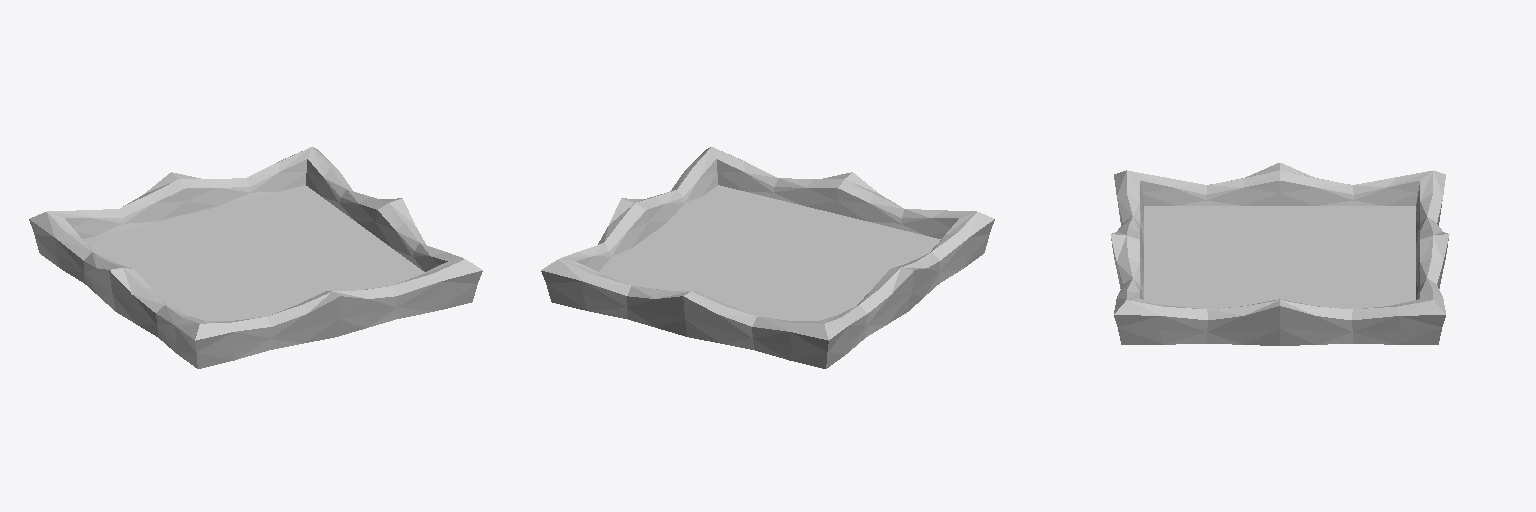
Rendered from frameNew02.obj.
3 renders of one model, left to right at view 1: azimuth 30°, elevation 25°; view 2: azimuth 150°, elevation 25°; view 3: azimuth 270°, elevation 25°, orthographic.
Visible parts, largest first — view 1: pCube15; view 2: pCube15; view 3: pCube15.
Part boxes in pixels (x1,y1,x2,y2): pCube15: (29,147,482,368); pCube15: (541,147,994,368); pCube15: (1110,163,1449,345).
Size of the model in its own units: 1.07 by 0.1523 by 1.07.